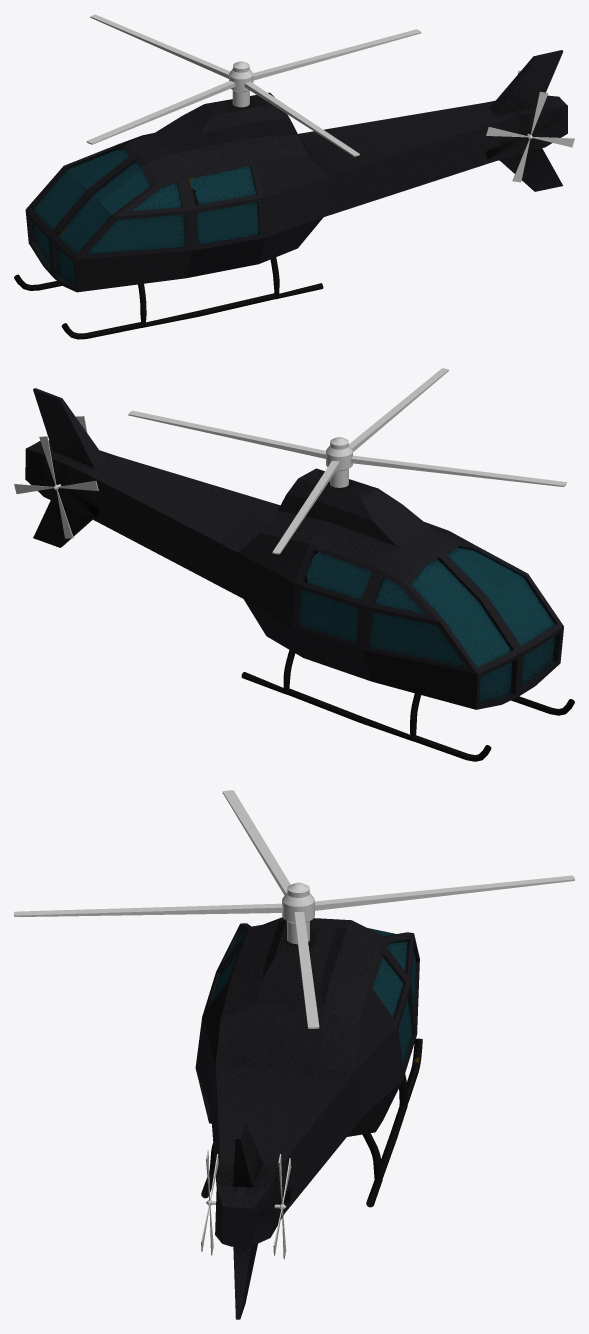
The model's file is anim_000189.obj.
3 renders of one model, top to bottom at view 1: azimuth 30°, elevation 25°; view 2: azimuth 150°, elevation 25°; view 3: azimuth 270°, elevation 25°, orthographic. The views are drawn at different scales.
Parts seen in each view (by area): view 1: Helicopter.007_Cylinder.008, Helicopter.001_Cylinder.001, Helicopter.003_Cylinder.004; view 2: Helicopter.007_Cylinder.008, Helicopter.001_Cylinder.001, Helicopter.004_Cylinder.005; view 3: Helicopter.007_Cylinder.008, Helicopter.001_Cylinder.001.
Boxes of the visible parts, <box> form: Helicopter.007_Cylinder.008: <box>14,50,567,339</box>; Helicopter.001_Cylinder.001: <box>86,14,421,156</box>; Helicopter.003_Cylinder.004: <box>486,92,574,182</box>; Helicopter.007_Cylinder.008: <box>25,388,574,761</box>; Helicopter.001_Cylinder.001: <box>128,368,566,554</box>; Helicopter.004_Cylinder.005: <box>14,436,98,538</box>; Helicopter.007_Cylinder.008: <box>195,917,422,1319</box>; Helicopter.001_Cylinder.001: <box>14,790,574,1028</box>.
Size of the model in its own units: 7.59 by 3.21 by 5.51.
